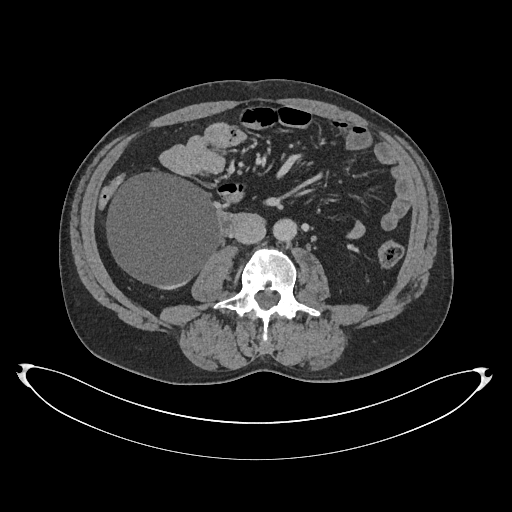Lesion: (103, 174, 217, 289)
